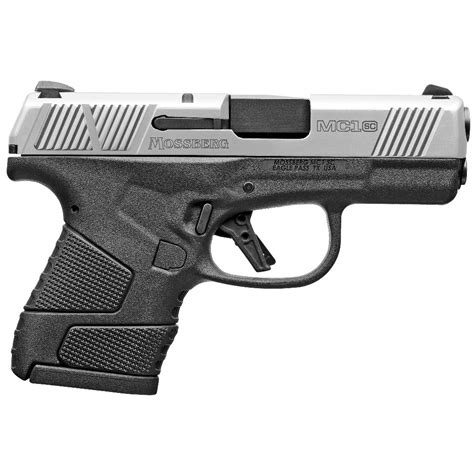gun: (7, 78, 471, 396)
